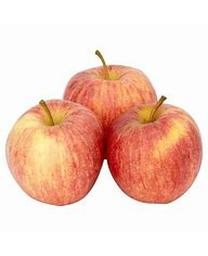apple: (4, 98, 104, 205), (106, 96, 203, 203), (62, 50, 157, 128)
